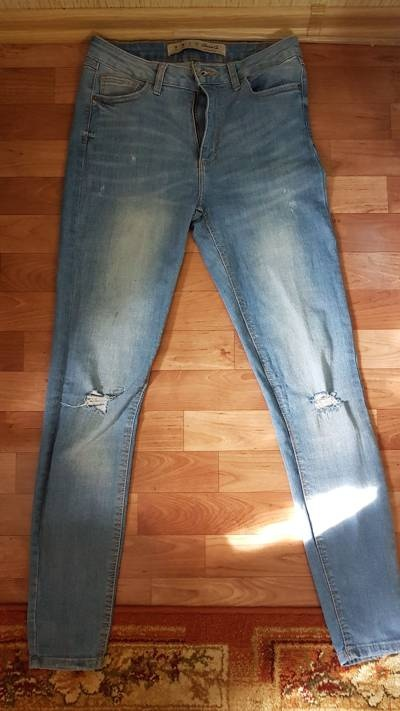Pants: (28, 27, 398, 690)
